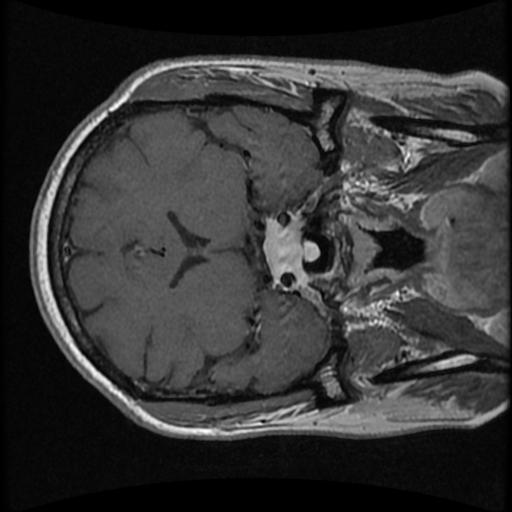pituitary tumour: (263, 219, 321, 277)
